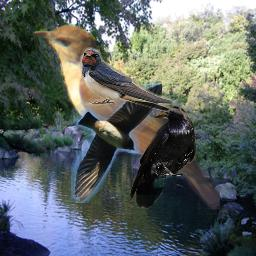Crow: (130, 106, 197, 209)
Cuckoo: (32, 24, 220, 209)
Swallow: (71, 81, 162, 203), (80, 47, 202, 120)
